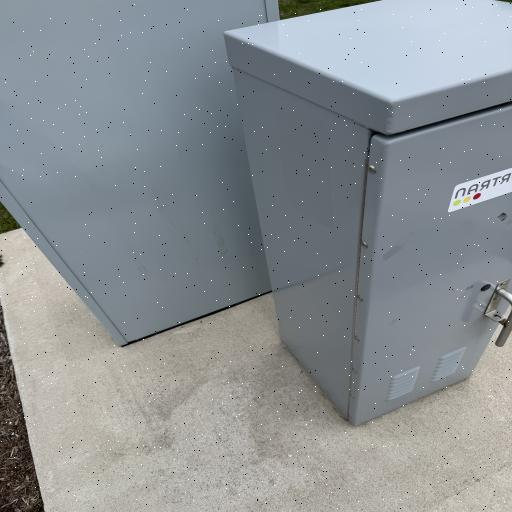Electrical Box: (224, 3, 512, 423)
